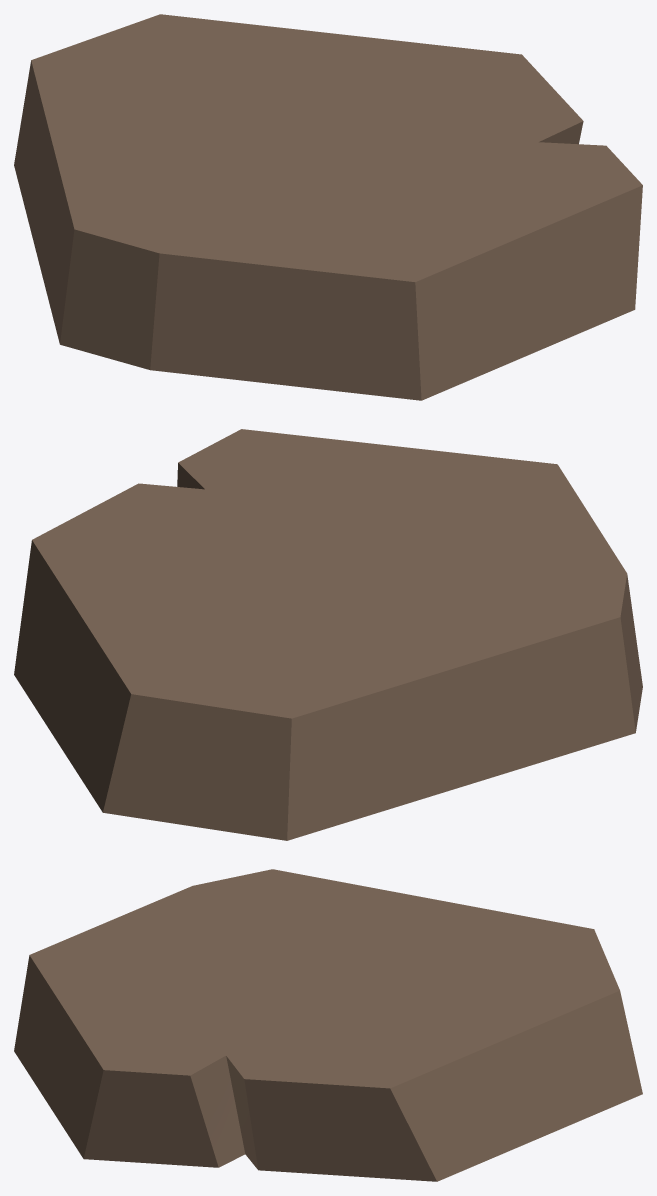
File: SteppingStone2.fbx
3 renders of one model, top to bottom at view 1: azimuth 30°, elevation 25°; view 2: azimuth 150°, elevation 25°; view 3: azimuth 270°, elevation 25°, orthographic. The views are drawn at different scales.
Parts seen in each view (by area): view 1: SteppingStone2; view 2: SteppingStone2; view 3: SteppingStone2.
Part boxes in pixels (left/top/right/bottom): SteppingStone2: left=14, top=14, right=642, bottom=400; SteppingStone2: left=14, top=429, right=642, bottom=840; SteppingStone2: left=14, top=869, right=642, bottom=1181.
Bounding box in the file's own units: 35.09 × 7.06 × 41.34.
